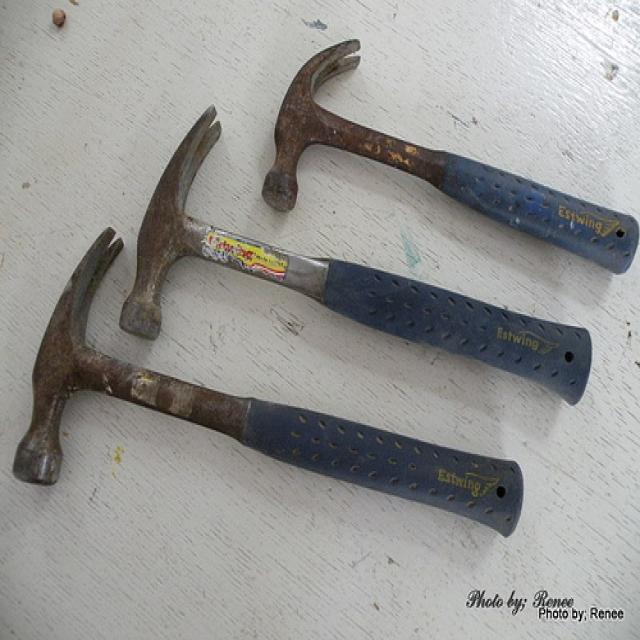hammer: (249, 15, 640, 259), (0, 203, 168, 500)
